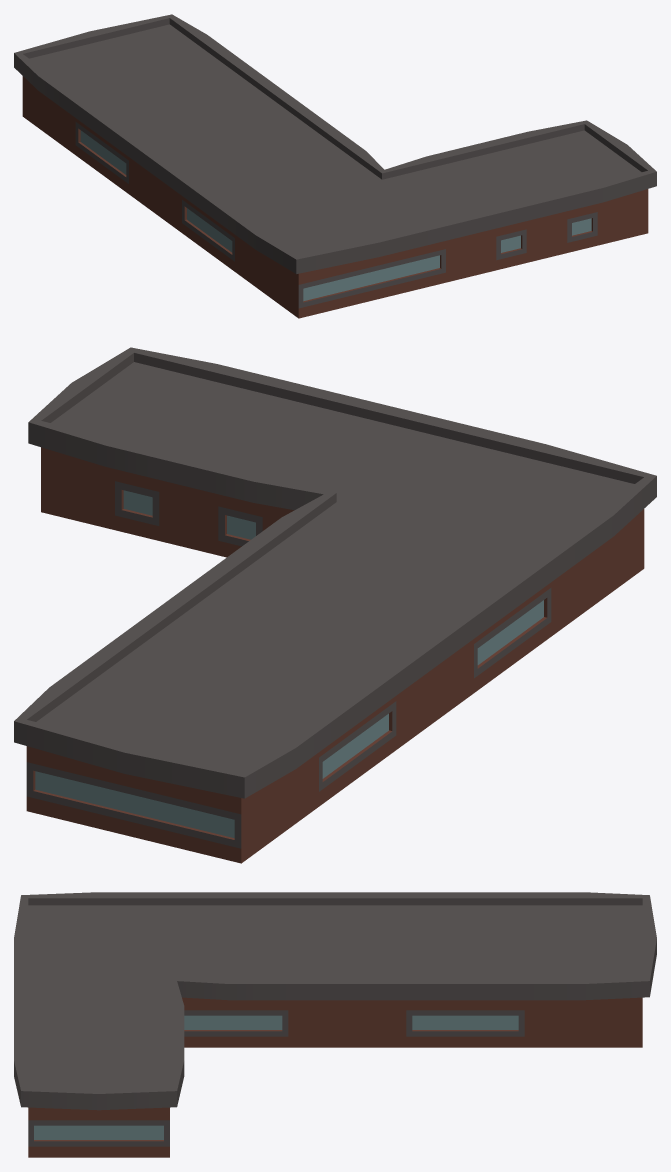
File: L_Top.fbx
3 views of the same model, one above another, from view 1: azimuth 30°, elevation 25°; view 2: azimuth 150°, elevation 25°; view 3: azimuth 270°, elevation 25° (orthographic). The views are drawn at different scales.
Visible parts, largest first — view 1: L_Top; view 2: L_Top; view 3: L_Top.
Part boxes in pixels (bbox=[...]): L_Top: bbox=[14, 14, 656, 318]; L_Top: bbox=[14, 347, 656, 863]; L_Top: bbox=[14, 892, 656, 1157].
Bounding box in the file's own units: 4042 × 651 × 5440.
